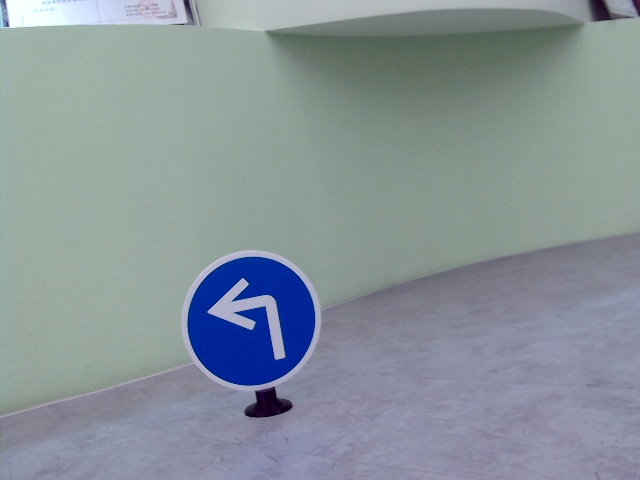turn_left: (207, 279, 288, 369)
